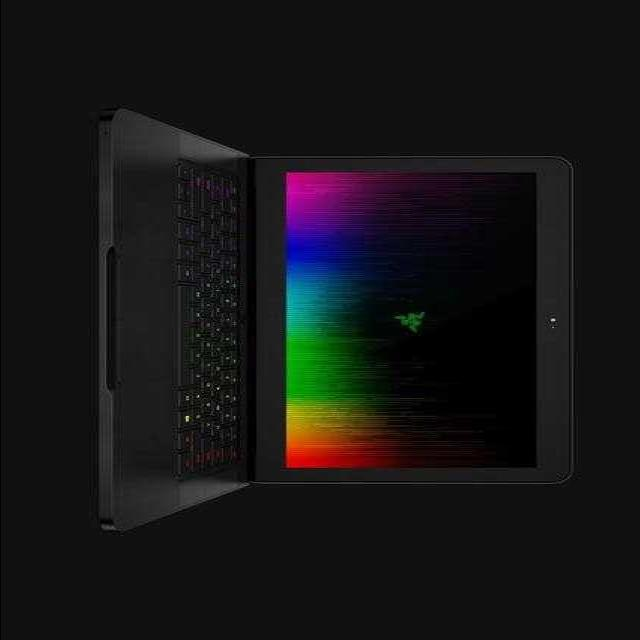laptop: (59, 106, 587, 526)
